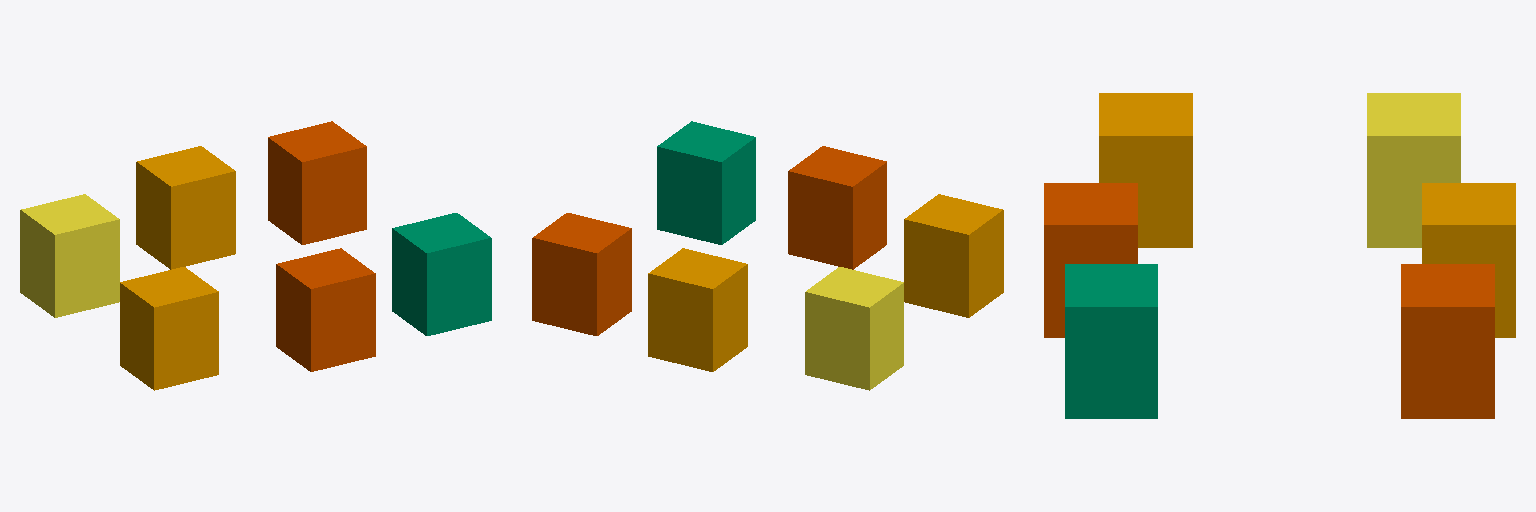
URDF robot description (nextro):
<?xml version="1.0"?>
<!-- created with Phobos 1.0.1 "Capricious Choutengan" -->
  <robot name="nextro">

    <link name="base_link_jointfix">
      <inertial>
        <origin xyz="0.18274 -0.00443 0.01211" rpy="0 0 0"/>
        <mass value="0.45"/>
        <inertia ixx="47.1259" ixy="0" ixz="0" iyy="0.20762" iyz="0" izz="0.02842"/>
      </inertial>
      <visual name="body_vis">
        <origin xyz="0.07363 -0.00193 0.00527" rpy="0 0 0"/>
        <geometry>
          <mesh filename="../meshes/stl/base BodyUp.stl" scale="1.0 1.0 1.0"/>
        </geometry>
      </visual>
      <collision name="body_col">
        <origin xyz="0.07474 -0.00193 0.00526" rpy="0 0 0"/>
        <geometry>
          <mesh filename="../meshes/stl/base BodyUp.002.stl" scale="1.0 1.0 1.0"/>
        </geometry>
      </collision>
    </link>

    <link name="left_back_ankle_joint">
      <inertial>
        <origin xyz="-0.02611 0.00095 0" rpy="0 0 0"/>
        <mass value="0.08"/>
        <inertia ixx="0.00032" ixy="0" ixz="0" iyy="0.00032" iyz="0" izz="2e-05"/>
      </inertial>
      <visual name="left_back_lower_vis">
        <origin xyz="-0.0605 0.00095 0" rpy="0 1.5708 0"/>
        <geometry>
          <mesh filename="../meshes/stl/Base Tibia 018.stl" scale="1.0 1.0 1.0"/>
        </geometry>
      </visual>
      <collision name="left_back_lower_col">
        <origin xyz="-0.0605 0.00095 0" rpy="0 1.5708 0"/>
        <geometry>
          <mesh filename="../meshes/stl/Base Tibia 018.001.stl" scale="1.0 1.0 1.0"/>
        </geometry>
      </collision>
    </link>

    <link name="left_back_hip_joint">
      <inertial>
        <origin xyz="-0.02722 -0.03328 0" rpy="0 0 0"/>
        <mass value="0.15"/>
        <inertia ixx="0.00091" ixy="0" ixz="0" iyy="0.00091" iyz="0" izz="0.00071"/>
      </inertial>
      <visual name="left_back_servo">
        <origin xyz="-0.01137 -0.01393 -0.00681" rpy="0 0 0"/>
        <geometry>
          <box size="0.05401 0.04997 0.06628"/>
        </geometry>
      </visual>
    </link>

    <link name="left_back_knee_joint">
      <inertial>
        <origin xyz="0 0 0" rpy="0 0 0"/>
        <mass value="0.001"/>
        <inertia ixx="0.001" ixy="0" ixz="0" iyy="0.001" iyz="0" izz="0.001"/>
      </inertial>
      <visual name="left_back_mid_vis">
        <origin xyz="0 -0.04054 0" rpy="0 1.5708 0"/>
        <geometry>
          <mesh filename="../meshes/stl/Base Femur 017.004.stl" scale="1.0 1.0 1.0"/>
        </geometry>
        <material name="Material.008"/>
      </visual>
      <collision name="left_back_mid_col">
        <origin xyz="3e-05 -0.04054 0" rpy="0 1.5708 0"/>
        <geometry>
          <box size="0.05918 0.10881 0.03203"/>
        </geometry>
      </collision>
    </link>

    <link name="left_center_ankle_joint">
      <inertial>
        <origin xyz="-0.02267 0.0021 0" rpy="0 0 0"/>
        <mass value="0.08"/>
        <inertia ixx="0.00032" ixy="0" ixz="0" iyy="0.00032" iyz="0" izz="2e-05"/>
      </inertial>
      <visual name="left_center_lower_vis">
        <origin xyz="-0.05905 0.0021 0" rpy="0 1.5708 0"/>
        <geometry>
          <mesh filename="../meshes/stl/Base Tibia 022.stl" scale="1.0 1.0 1.0"/>
        </geometry>
        <material name="Material.002"/>
      </visual>
      <collision name="left_center_lower_col">
        <origin xyz="-0.05905 0.0021 0" rpy="0 1.5708 0"/>
        <geometry>
          <mesh filename="../meshes/stl/Base Tibia 022.001.stl" scale="1.0 1.0 1.0"/>
        </geometry>
      </collision>
    </link>

    <link name="left_center_hip_joint">
      <inertial>
        <origin xyz="-0.031 -0.03493 0" rpy="0 0 0"/>
        <mass value="0.15"/>
        <inertia ixx="0.00152" ixy="0" ixz="0" iyy="0.00152" iyz="0" izz="0.00118"/>
      </inertial>
      <visual name="left_center_servo">
        <origin xyz="-0.01141 -0.01455 -0.00681" rpy="0 0 0"/>
        <geometry>
          <box size="0.05401 0.04997 0.06628"/>
        </geometry>
      </visual>
    </link>

    <link name="left_center_knee_joint">
      <inertial>
        <origin xyz="0 0 0" rpy="0 0 0"/>
        <mass value="0.001"/>
        <inertia ixx="0.001" ixy="0" ixz="0" iyy="0.001" iyz="0" izz="0.001"/>
      </inertial>
      <visual name="left_center_mid_vis">
        <origin xyz="0.00196 -0.03992 0" rpy="0 1.5708 0"/>
        <geometry>
          <mesh filename="../meshes/stl/Base Femur 017.002.stl" scale="1.0 1.0 1.0"/>
        </geometry>
        <material name="Material.009"/>
      </visual>
      <collision name="left_center_mid_col">
        <origin xyz="0.00199 -0.03992 0" rpy="0 1.5708 0"/>
        <geometry>
          <box size="0.05918 0.10881 0.03203"/>
        </geometry>
      </collision>
    </link>

    <link name="left_front_ankle_joint">
      <inertial>
        <origin xyz="-0.01972 0 0" rpy="0 0 0"/>
        <mass value="0.08"/>
        <inertia ixx="0.00032" ixy="0" ixz="0" iyy="0.00032" iyz="0" izz="2e-05"/>
      </inertial>
      <visual name="left_front_lower_vis">
        <origin xyz="-0.05832 0 0" rpy="0 1.5708 0"/>
        <geometry>
          <mesh filename="../meshes/stl/Base Tibia 026.stl" scale="1.0 1.0 1.0"/>
        </geometry>
      </visual>
      <collision name="left_front_lower_col">
        <origin xyz="-0.05832 0 0" rpy="0 1.5708 0"/>
        <geometry>
          <mesh filename="../meshes/stl/Base Tibia 026.001.stl" scale="1.0 1.0 1.0"/>
        </geometry>
      </collision>
    </link>

    <link name="left_front_hip_joint">
      <inertial>
        <origin xyz="-0.04696 -0.04435 0" rpy="0 0 0"/>
        <mass value="0.15"/>
        <inertia ixx="0.01111" ixy="0" ixz="0" iyy="0.01111" iyz="0" izz="0.00864"/>
      </inertial>
      <visual name="left_front_servo">
        <origin xyz="-0.0102 -0.01217 -0.00681" rpy="0 0 0"/>
        <geometry>
          <box size="0.05401 0.04997 0.06628"/>
        </geometry>
      </visual>
    </link>

    <link name="left_front_knee_joint">
      <inertial>
        <origin xyz="0 0 0" rpy="0 0 0"/>
        <mass value="0.001"/>
        <inertia ixx="0.001" ixy="0" ixz="0" iyy="0.001" iyz="0" izz="0.001"/>
      </inertial>
      <visual name="left_front_mid_vis">
        <origin xyz="0.00089 -0.04084 0" rpy="0 1.5708 0"/>
        <geometry>
          <mesh filename="../meshes/stl/Base Femur 017.003.stl" scale="1.0 1.0 1.0"/>
        </geometry>
        <material name="Material.003"/>
      </visual>
      <collision name="left_front_mid_col">
        <origin xyz="0.00092 -0.04084 0" rpy="0 1.5708 0"/>
        <geometry>
          <box size="0.05918 0.10881 0.03203"/>
        </geometry>
      </collision>
    </link>

    <link name="left_legs_jointfix">
      <inertial>
        <origin xyz="0 0 0" rpy="0 0 0"/>
        <mass value="0.001"/>
        <inertia ixx="0.001" ixy="0" ixz="0" iyy="0.001" iyz="0" izz="0.001"/>
      </inertial>
    </link>

    <link name="new_link">
      <inertial>
        <origin xyz="0 0 0" rpy="0 0 0"/>
        <mass value="0.001"/>
        <inertia ixx="0.001" ixy="0" ixz="0" iyy="0.001" iyz="0" izz="0.001"/>
      </inertial>
    </link>

    <link name="right_back_ankle_joint">
      <inertial>
        <origin xyz="-0.023 -0.00058 0" rpy="0 0 0"/>
        <mass value="0.08"/>
        <inertia ixx="0.00032" ixy="0" ixz="0" iyy="0.00032" iyz="0" izz="2e-05"/>
      </inertial>
      <visual name="right_back_lower_vis">
        <origin xyz="-0.05962 -0.00058 0" rpy="0 1.5708 0"/>
        <geometry>
          <mesh filename="../meshes/stl/Base Tibia 020.stl" scale="1.0 1.0 1.0"/>
        </geometry>
        <material name="Material.004"/>
      </visual>
      <collision name="right_back_lower_col">
        <origin xyz="-0.05961 -0.00059 0" rpy="0 1.5708 0"/>
        <geometry>
          <mesh filename="../meshes/stl/Base Tibia 020.009.stl" scale="1.0 1.0 1.0"/>
        </geometry>
      </collision>
    </link>

    <link name="right_back_hip_joint">
      <inertial>
        <origin xyz="-0.03014 0.06254 0" rpy="0 0 0"/>
        <mass value="0.15"/>
        <inertia ixx="0.0105" ixy="0" ixz="0" iyy="0.0105" iyz="0" izz="0.00817"/>
      </inertial>
      <visual name="rght_back_servo">
        <origin xyz="-0.01019 0.01397 0.0029" rpy="0 0 0"/>
        <geometry>
          <box size="0.05401 0.04997 0.06628"/>
        </geometry>
      </visual>
    </link>

    <link name="right_back_knee_joint">
      <inertial>
        <origin xyz="0 0 0" rpy="0 0 0"/>
        <mass value="0.001"/>
        <inertia ixx="0.001" ixy="0" ixz="0" iyy="0.001" iyz="0" izz="0.001"/>
      </inertial>
      <visual name="right_back_mid_vis">
        <origin xyz="0 0.04086 -0.02836" rpy="0 1.5708 0"/>
        <geometry>
          <mesh filename="../meshes/stl/Base Femur 017.stl" scale="1.0 1.0 1.0"/>
        </geometry>
        <material name="Material.005"/>
      </visual>
      <collision name="right_back_mid_col">
        <origin xyz="-7e-05 0.04102 -0.02836" rpy="0 1.5708 0"/>
        <geometry>
          <box size="0.05918 0.10881 0.03203"/>
        </geometry>
      </collision>
    </link>

    <link name="right_center_ankle_joint">
      <inertial>
        <origin xyz="-0.02039 -0.00143 0.00304" rpy="0 0 0"/>
        <mass value="0.08"/>
        <inertia ixx="0.00032" ixy="0" ixz="0" iyy="0.00032" iyz="0" izz="2e-05"/>
      </inertial>
      <visual name="right_center_lower_vis">
        <origin xyz="-0.058 -0.00143 0.00304" rpy="0 1.5708 0"/>
        <geometry>
          <mesh filename="../meshes/stl/Base Tibia 024.stl" scale="1.0 1.0 1.0"/>
        </geometry>
        <material name="Material.001"/>
      </visual>
      <collision name="right_center_lower_col">
        <origin xyz="-0.05799 -0.00144 0.00305" rpy="0 1.5708 0"/>
        <geometry>
          <mesh filename="../meshes/stl/Base Tibia 024.004.stl" scale="1.0 1.0 1.0"/>
        </geometry>
      </collision>
    </link>

    <link name="right_center_hip_joint">
      <inertial>
        <origin xyz="-0.03963 0.06971 0" rpy="0 0 0"/>
        <mass value="0.15"/>
        <inertia ixx="0.00994" ixy="0" ixz="0" iyy="0.00994" iyz="0" izz="0.00773"/>
      </inertial>
      <visual name="right_center_servo">
        <origin xyz="-0.01189 0.01371 0.00021" rpy="0 0 0"/>
        <geometry>
          <box size="0.05403 0.05014 0.06629"/>
        </geometry>
      </visual>
    </link>

    <link name="right_center_knee_joint">
      <inertial>
        <origin xyz="0 0 0" rpy="0 0 0"/>
        <mass value="0.001"/>
        <inertia ixx="0.001" ixy="0" ixz="0" iyy="0.001" iyz="0" izz="0.001"/>
      </inertial>
      <visual name="right_center_mid_vis">
        <origin xyz="0.00544 0.0423 0" rpy="0 1.5708 0"/>
        <geometry>
          <mesh filename="../meshes/stl/Base Femur 017.006.stl" scale="1.0 1.0 1.0"/>
        </geometry>
        <material name="Material.006"/>
      </visual>
      <collision name="right_center_mid_col">
        <origin xyz="0.00522 0.04205 0" rpy="0 1.5708 0"/>
        <geometry>
          <box size="0.05918 0.10881 0.03203"/>
        </geometry>
      </collision>
    </link>

    <link name="right_front_ankle_joint">
      <inertial>
        <origin xyz="-0.02055 -0.00033 0.00304" rpy="0 0 0"/>
        <mass value="0.08"/>
        <inertia ixx="0.00032" ixy="0" ixz="0" iyy="0.00032" iyz="0" izz="2e-05"/>
      </inertial>
      <visual name="right_front_lower_vis">
        <origin xyz="-0.05964 -0.00033 0.00304" rpy="0 1.5708 0"/>
        <geometry>
          <mesh filename="../meshes/stl/Base Tibia 028.stl" scale="1.0 1.0 1.0"/>
        </geometry>
      </visual>
      <collision name="right_front_lower_col">
        <origin xyz="-0.05963 -0.00033 0.00305" rpy="0 1.5708 0"/>
        <geometry>
          <mesh filename="../meshes/stl/Base Tibia 028.001.stl" scale="1.0 1.0 1.0"/>
        </geometry>
      </collision>
    </link>

    <link name="right_front_hip_joint">
      <inertial>
        <origin xyz="-0.0277 0.04478 0" rpy="0 0 0"/>
        <mass value="0.15"/>
        <inertia ixx="0.00766" ixy="0" ixz="0" iyy="0.00766" iyz="0" izz="0.00595"/>
      </inertial>
      <visual name="right_front_servo">
        <origin xyz="-0.01014 0.01397 0.0029" rpy="0 0 0"/>
        <geometry>
          <box size="0.05402 0.04998 0.06627"/>
        </geometry>
      </visual>
    </link>

    <link name="right_front_knee_joint">
      <inertial>
        <origin xyz="0 0 0" rpy="0 0 0"/>
        <mass value="0.001"/>
        <inertia ixx="0.001" ixy="0" ixz="0" iyy="0.001" iyz="0" izz="0.001"/>
      </inertial>
      <visual name="right_front_mid_vis">
        <origin xyz="0.00333 0.04347 0" rpy="0 1.5708 0"/>
        <geometry>
          <mesh filename="../meshes/stl/Base Femur 017.005.stl" scale="1.0 1.0 1.0"/>
        </geometry>
        <material name="Material.007"/>
      </visual>
      <collision name="right_front_mid_col">
        <origin xyz="0.00318 0.04344 0" rpy="0 1.5708 0"/>
        <geometry>
          <box size="0.05918 0.10881 0.03203"/>
        </geometry>
      </collision>
    </link>

    <joint name="left_back_ankle_joint" type="revolute">
      <origin xyz="-0.00352 -0.08495 0.00142" rpy="0 0 0"/>
      <parent link="left_back_knee_joint"/>
      <child link="left_back_ankle_joint"/>
      <axis xyz="0 0 1.0"/>
      <limit lower="-6.28" upper="6.28" effort="100.0" velocity="100.0"/>
    </joint>

    <joint name="left_back_hip_joint" type="revolute">
      <origin xyz="0.1076 -0.03938 0.03905" rpy="0 0 0"/>
      <parent link="left_legs_jointfix"/>
      <child link="left_back_hip_joint"/>
      <axis xyz="0 0 1.0"/>
      <limit lower="-6.28" upper="6.28" effort="100.0" velocity="100.0"/>
    </joint>

    <joint name="left_back_knee_joint" type="revolute">
      <origin xyz="-0.01171 -0.03092 0.01414" rpy="0 -1.5708 0"/>
      <parent link="left_back_hip_joint"/>
      <child link="left_back_knee_joint"/>
      <axis xyz="0 0 1.0"/>
      <limit lower="-3.0" upper="3.0" effort="0" velocity="0"/>
    </joint>

    <joint name="left_center_ankle_joint" type="revolute">
      <origin xyz="-0.003 -0.08547 0" rpy="0 0 0"/>
      <parent link="left_center_knee_joint"/>
      <child link="left_center_ankle_joint"/>
      <axis xyz="0 0 1.0"/>
      <limit lower="-6.28" upper="6.28" effort="100.0" velocity="100.0"/>
    </joint>

    <joint name="left_center_hip_joint" type="revolute">
      <origin xyz="0.00455 -0.04977 0.03905" rpy="0 0 0"/>
      <parent link="left_legs_jointfix"/>
      <child link="left_center_hip_joint"/>
      <axis xyz="0 0 1.0"/>
      <limit lower="-6.28" upper="6.28" effort="100.0" velocity="100.0"/>
    </joint>

    <joint name="left_center_knee_joint" type="revolute">
      <origin xyz="-0.01175 -0.03216 0.01218" rpy="0 -1.5708 0"/>
      <parent link="left_center_hip_joint"/>
      <child link="left_center_knee_joint"/>
      <axis xyz="0 0 1.0"/>
      <limit lower="-6.28" upper="6.28" effort="100.0" velocity="100.0"/>
    </joint>

    <joint name="left_front_ankle_joint" type="revolute">
      <origin xyz="-0.0048 -0.08429 0" rpy="0 0 0"/>
      <parent link="left_front_knee_joint"/>
      <child link="left_front_ankle_joint"/>
      <axis xyz="0 0 1.0"/>
      <limit lower="-6.28" upper="6.28" effort="100.0" velocity="100.0"/>
    </joint>

    <joint name="left_front_hip_joint" type="revolute">
      <origin xyz="-0.11041 -0.02281 0.03905" rpy="0 0 0"/>
      <parent link="left_legs_jointfix"/>
      <child link="left_front_hip_joint"/>
      <axis xyz="0 0 1.0"/>
      <limit lower="-6.28" upper="6.28" effort="100.0" velocity="100.0"/>
    </joint>

    <joint name="left_front_knee_joint" type="revolute">
      <origin xyz="-0.01054 -0.02886 0.01325" rpy="0 -1.5708 0"/>
      <parent link="left_front_hip_joint"/>
      <child link="left_front_knee_joint"/>
      <axis xyz="0 0 1.0"/>
      <limit lower="-6.28" upper="6.28" effort="100.0" velocity="100.0"/>
    </joint>

    <joint name="left_legs_jointfix" type="fixed">
      <origin xyz="0.08273 -0.03863 -0.02058" rpy="0 0 0"/>
      <parent link="base_link_jointfix"/>
      <child link="left_legs_jointfix"/>
    </joint>

    <joint name="right_back_ankle_joint" type="revolute">
      <origin xyz="-0.0044 0.0849 -0.02835" rpy="0 0 0"/>
      <parent link="right_back_knee_joint"/>
      <child link="right_back_ankle_joint"/>
      <axis xyz="0 0 1.0"/>
      <limit lower="-3.0" upper="3.0" effort="0" velocity="0"/>
    </joint>

    <joint name="right_back_hip_joint" type="revolute">
      <origin xyz="0.10729 0.04375 0.02835" rpy="0 0 0"/>
      <parent link="new_link"/>
      <child link="right_back_hip_joint"/>
      <axis xyz="0 0 1.0"/>
      <limit lower="-6.28" upper="6.28" effort="100.0" velocity="100.0"/>
    </joint>

    <joint name="right_back_knee_joint" type="revolute">
      <origin xyz="-0.03888 0.03066 0.02385" rpy="0 -1.5708 0"/>
      <parent link="right_back_hip_joint"/>
      <child link="right_back_knee_joint"/>
      <axis xyz="0 0 1.0"/>
      <limit lower="-3.0" upper="3.0" effort="0" velocity="0"/>
    </joint>

    <joint name="right_center_ankle_joint" type="revolute">
      <origin xyz="-0.00058 0.08719 -0.00304" rpy="0 0 0"/>
      <parent link="right_center_knee_joint"/>
      <child link="right_center_ankle_joint"/>
      <axis xyz="0 0 1.0"/>
      <limit lower="-3.0" upper="3.0" effort="0" velocity="0"/>
    </joint>

    <joint name="right_center_hip_joint" type="revolute">
      <origin xyz="0.0059 0.05502 0.03104" rpy="0 0 0"/>
      <parent link="new_link"/>
      <child link="right_center_hip_joint"/>
      <axis xyz="0 0 1.0"/>
      <limit lower="-6.28" upper="6.28" effort="100.0" velocity="100.0"/>
    </joint>

    <joint name="right_center_knee_joint" type="revolute">
      <origin xyz="-0.01224 0.02896 0.01572" rpy="0 -1.5708 0"/>
      <parent link="right_center_hip_joint"/>
      <child link="right_center_knee_joint"/>
      <axis xyz="0 0 1.0"/>
      <limit lower="-6.28" upper="6.28" effort="100.0" velocity="100.0"/>
    </joint>

    <joint name="right_front_ankle_joint" type="revolute">
      <origin xyz="-0.00104 0.08725 -0.00304" rpy="0 0 0"/>
      <parent link="right_front_knee_joint"/>
      <child link="right_front_ankle_joint"/>
      <axis xyz="0 0 1.0"/>
      <limit lower="-3.0" upper="3.0" effort="0" velocity="0"/>
    </joint>

    <joint name="right_front_hip_joint" type="revolute">
      <origin xyz="-0.10961 0.02542 0.02835" rpy="0 0 0"/>
      <parent link="new_link"/>
      <child link="right_front_hip_joint"/>
      <axis xyz="0 0 1.0"/>
      <limit lower="-6.28" upper="6.28" effort="100.0" velocity="100.0"/>
    </joint>

    <joint name="right_front_knee_joint" type="revolute">
      <origin xyz="-0.01048 0.02805 0.02051" rpy="0 -1.5708 0"/>
      <parent link="right_front_hip_joint"/>
      <child link="right_front_knee_joint"/>
      <axis xyz="0 0 1.0"/>
      <limit lower="-3.0" upper="3.0" effort="0" velocity="0"/>
    </joint>

    <joint name="right_legs_jointfix" type="fixed">
      <origin xyz="0.08186 0.03035 -0.01959" rpy="0 0 0"/>
      <parent link="base_link_jointfix"/>
      <child link="new_link"/>
    </joint>

    <material name="Material.001">
      <color rgba="0.00122 0.78118 0.06571 1.0"/>
    </material>

    <material name="Material.002">
      <color rgba="0.00211 0.05274 0.64 1.0"/>
    </material>

    <material name="Material.003">
      <color rgba="0.64 0.09462 0.18545 1.0"/>
    </material>

    <material name="Material.004">
      <color rgba="0.64 0 0.33575 1.0"/>
    </material>

    <material name="Material.005">
      <color rgba="0.58103 0.00418 0.64 1.0"/>
    </material>

    <material name="Material.006">
      <color rgba="0.22297 0.64 0.30403 1.0"/>
    </material>

    <material name="Material.007">
      <color rgba="0.64 0 0.00143 1.0"/>
    </material>

    <material name="Material.008">
      <color rgba="0.64 0.49535 0.017 1.0"/>
    </material>

    <material name="Material.009">
      <color rgba="0.00709 0.51823 0.64 1.0"/>
    </material>

  </robot>

--- What the picture shows (computed from the rendered views, not written in the file) ---
Views: 3 orthographic renders of the robot side by side, from view 1: azimuth 30°, elevation 25°; view 2: azimuth 150°, elevation 25°; view 3: azimuth 270°, elevation 25°.
Robot: nextro — 21 links, 20 joints (18 revolute, 2 fixed); root link base_link_jointfix; default pose: all joints at 0.
Links seen in each view (by area): view 1: right_center_hip_joint, left_center_hip_joint, left_back_hip_joint, right_front_hip_joint, left_front_hip_joint, right_back_hip_joint; view 2: right_center_hip_joint, left_front_hip_joint, right_back_hip_joint, left_back_hip_joint, right_front_hip_joint, left_center_hip_joint; view 3: right_back_hip_joint, left_back_hip_joint, left_front_hip_joint, right_front_hip_joint, left_center_hip_joint, right_center_hip_joint.
Link boxes in pixels (<box>): right_center_hip_joint: <box>136,146,235,269</box>; left_center_hip_joint: <box>276,248,375,371</box>; left_back_hip_joint: <box>392,213,491,335</box>; right_front_hip_joint: <box>20,194,119,317</box>; left_front_hip_joint: <box>120,267,218,390</box>; right_back_hip_joint: <box>268,121,366,244</box>; right_center_hip_joint: <box>648,248,747,371</box>; left_front_hip_joint: <box>904,194,1003,317</box>; right_back_hip_joint: <box>532,213,631,335</box>; left_back_hip_joint: <box>657,121,755,244</box>; right_front_hip_joint: <box>805,267,903,390</box>; left_center_hip_joint: <box>788,146,886,269</box>; right_back_hip_joint: <box>1401,264,1494,418</box>; left_back_hip_joint: <box>1065,264,1157,418</box>; left_front_hip_joint: <box>1099,93,1192,247</box>; right_front_hip_joint: <box>1367,93,1460,247</box>; left_center_hip_joint: <box>1044,183,1137,337</box>; right_center_hip_joint: <box>1422,183,1515,337</box>.
Bounding box of the posed robot: 0.2709 × 0.2521 × 0.0663 m (x, y, z).
Meshes: 13 distinct files referenced, 0 mesh visuals loaded (none loaded); not drawn: 13 (reference not matched to a file when rendering).